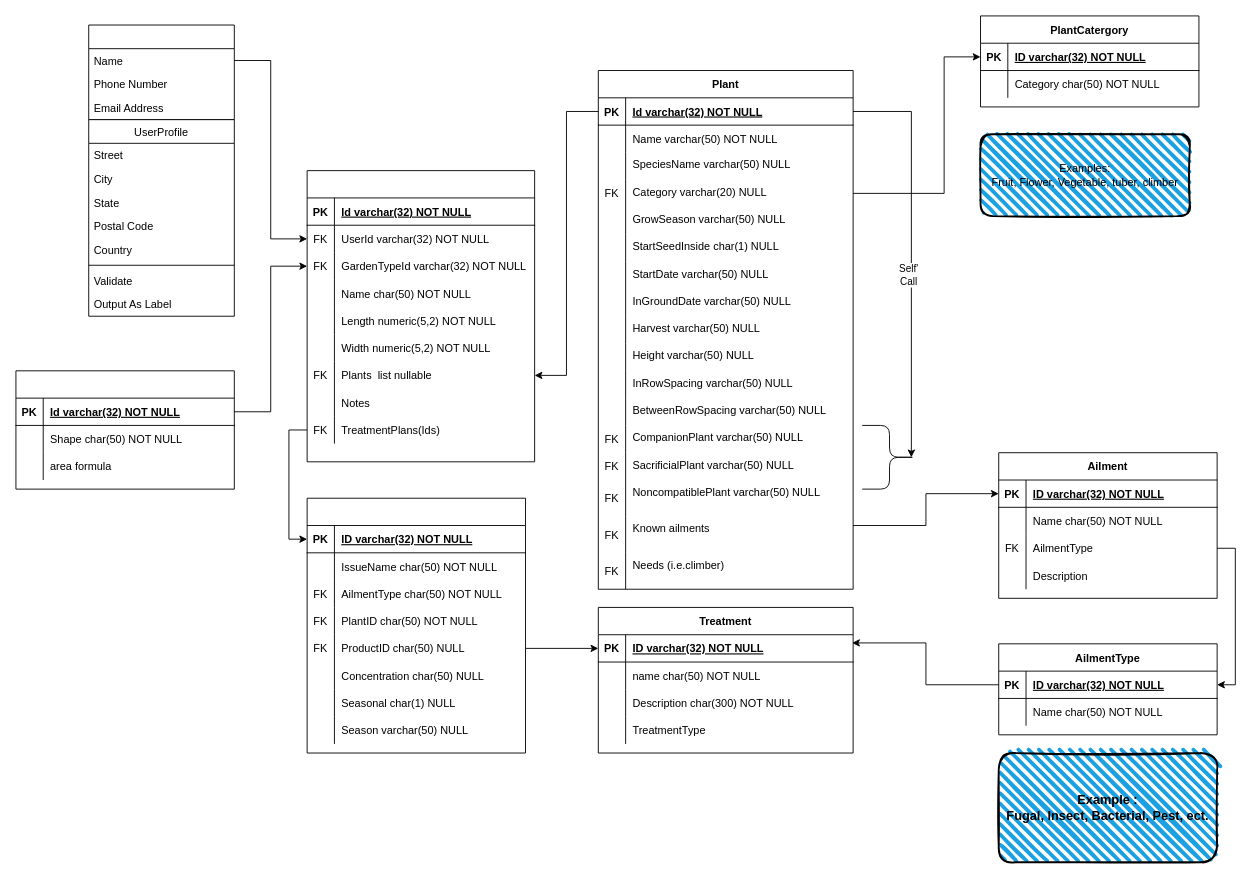
Image size: 1259x879. Some labels were removed from this diagram. Here are the shapes that lost their labels. From the top down, the box of each, then its label:
(88, 24, 234, 120): User
(306, 170, 535, 462): GardenBed
(15, 370, 234, 489): GardenType
(306, 497, 526, 753): TreatmentPlan
